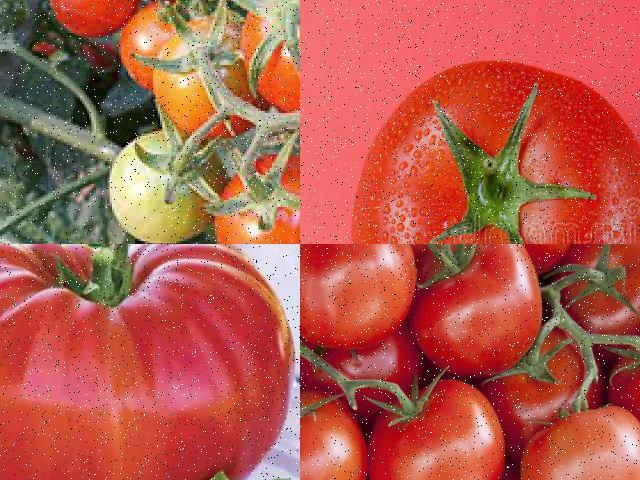tomato: (0, 244, 299, 479), (343, 52, 639, 243), (415, 244, 543, 380), (366, 379, 518, 479), (158, 31, 276, 140), (300, 244, 421, 348), (486, 329, 590, 433), (558, 244, 639, 361), (518, 407, 639, 479), (221, 158, 299, 243), (300, 338, 424, 391), (118, 8, 202, 86), (300, 388, 371, 479), (242, 0, 299, 112), (613, 317, 639, 463), (468, 244, 584, 273), (45, 0, 138, 31)
